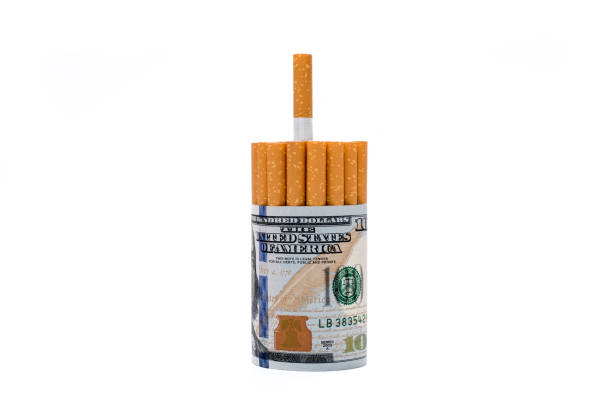cigarette: (292, 52, 313, 140), (286, 140, 307, 206), (306, 140, 327, 206), (268, 141, 288, 206), (327, 141, 345, 206), (251, 142, 267, 205), (345, 141, 358, 205), (358, 141, 368, 204)
